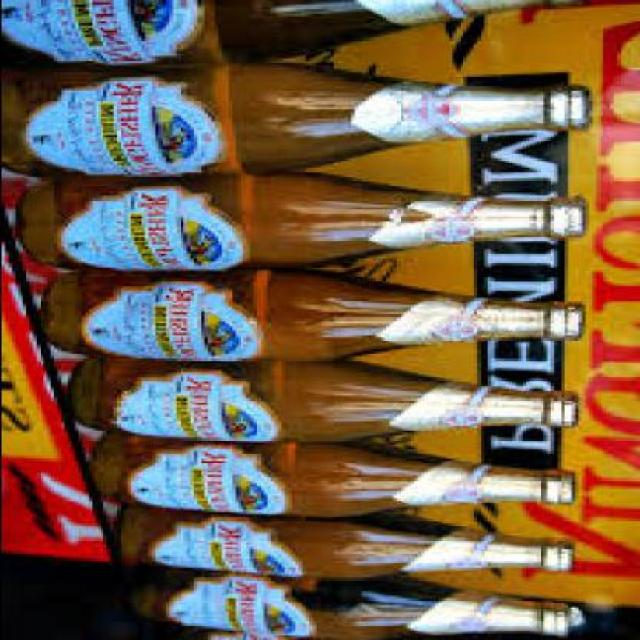GLASS: (3, 66, 588, 176), (21, 177, 588, 272), (45, 272, 587, 365), (70, 361, 581, 447), (91, 436, 574, 522), (3, 2, 588, 70), (112, 507, 574, 584), (128, 570, 574, 638)
